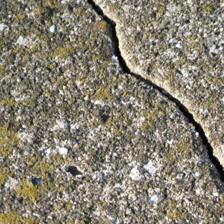Crack: (86, 2, 221, 175)
